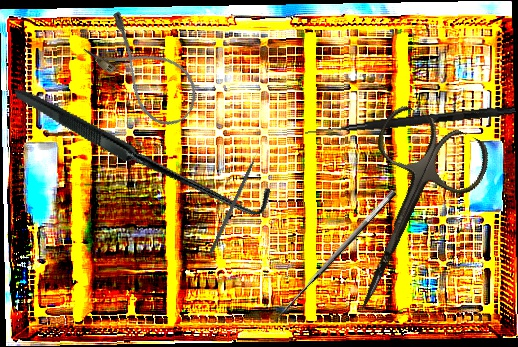Cannula: (79, 7, 210, 136)
Hook Surgical: (13, 12, 278, 285), (272, 188, 407, 330), (304, 103, 516, 140), (209, 147, 263, 254)
Iris Scissors: (309, 100, 497, 333)
